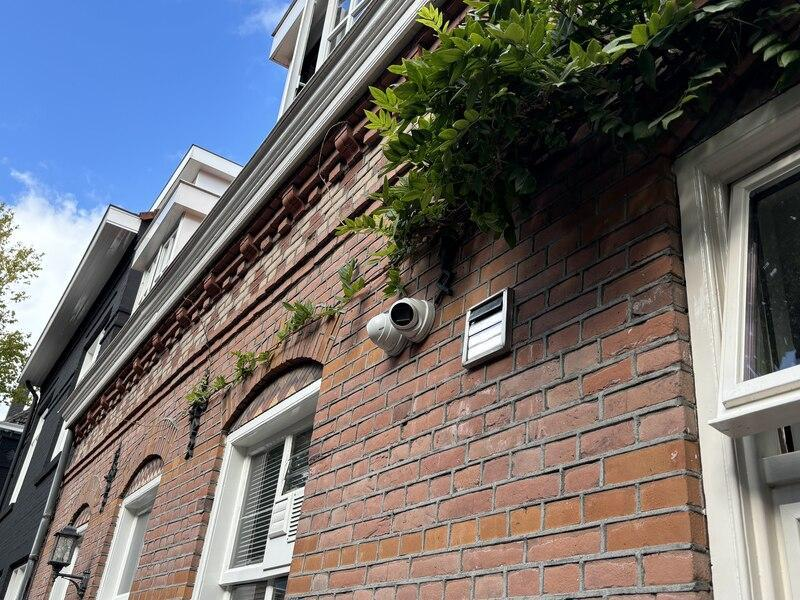turret: (384, 287, 437, 347), (361, 302, 393, 357)
